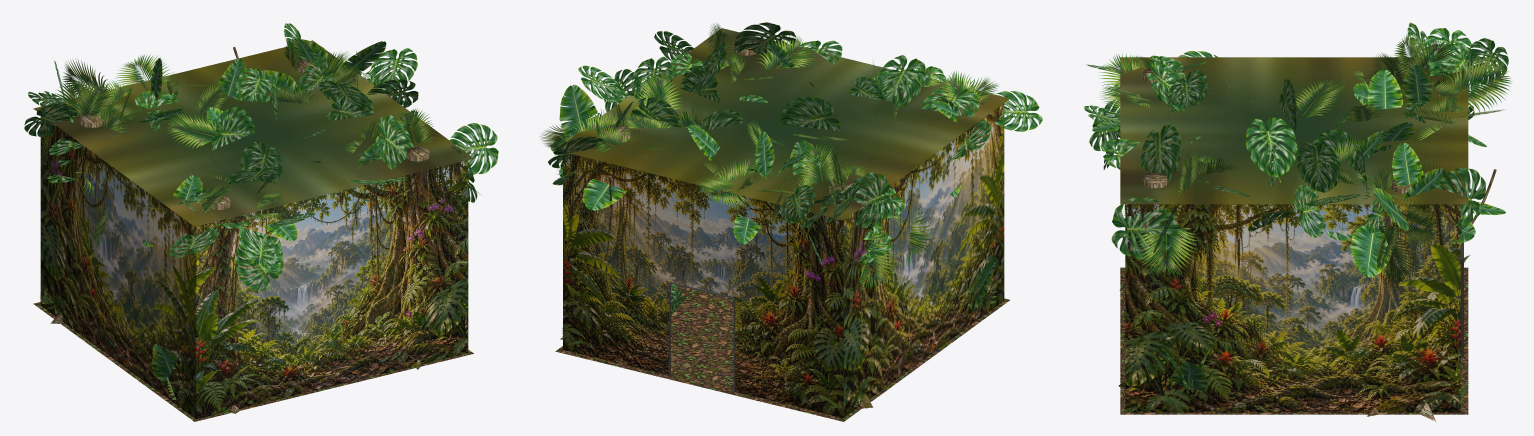
Rendered from jungle.glb.
3 views of the same model, side by side, from view 1: azimuth 30°, elevation 25°; view 2: azimuth 150°, elevation 25°; view 3: azimuth 270°, elevation 25° (orthographic). The views are drawn at different scales.
Parts seen in each view (by area): view 1: Mural.jungle.back, Mural.jungle.ceiling, Mural.jungle.right, Card.jungle.leaves-0, Card.jungle.leaves-2, Card.jungle.leaves-1, Floor, Bark.jungle; view 2: Mural.jungle.front, Mural.jungle.ceiling, Mural.jungle.right, Card.jungle.leaves-0, Card.jungle.leaves-2, Floor, Card.jungle.leaves-1, Bark.jungle, Trim; view 3: Mural.jungle.left, Mural.jungle.ceiling, Card.jungle.leaves-0, Card.jungle.leaves-2, Card.jungle.leaves-1, Floor, Bark.jungle, Card.jungle.leaves-3, Trim.
Part boxes in pixels (left/top/right/bottom): Mural.jungle.back: left=196, top=160, right=468, bottom=419; Mural.jungle.ceiling: left=33, top=40, right=473, bottom=226; Mural.jungle.right: left=40, top=116, right=196, bottom=418; Card.jungle.leaves-0: left=24, top=23, right=498, bottom=290; Card.jungle.leaves-2: left=51, top=37, right=480, bottom=357; Card.jungle.leaves-1: left=138, top=38, right=411, bottom=384; Floor: left=33, top=302, right=473, bottom=421; Bark.jungle: left=50, top=47, right=429, bottom=413; Mural.jungle.front: left=563, top=154, right=843, bottom=418; Mural.jungle.ceiling: left=563, top=28, right=1010, bottom=220; Mural.jungle.right: left=843, top=103, right=1004, bottom=417; Card.jungle.leaves-0: left=548, top=22, right=1042, bottom=315; Card.jungle.leaves-2: left=541, top=23, right=998, bottom=354; Floor: left=555, top=284, right=1009, bottom=421; Card.jungle.leaves-1: left=550, top=43, right=995, bottom=312; Bark.jungle: left=560, top=42, right=959, bottom=408; Trim: left=669, top=282, right=735, bottom=392; Mural.jungle.left: left=1125, top=204, right=1460, bottom=412; Mural.jungle.ceiling: left=1120, top=57, right=1468, bottom=204; Card.jungle.leaves-0: left=1084, top=22, right=1508, bottom=259; Card.jungle.leaves-2: left=1100, top=32, right=1511, bottom=399; Card.jungle.leaves-1: left=1092, top=61, right=1505, bottom=394; Floor: left=1120, top=267, right=1468, bottom=414; Bark.jungle: left=1118, top=62, right=1496, bottom=421; Card.jungle.leaves-3: left=1157, top=255, right=1470, bottom=407; Trim: left=1460, top=242, right=1463, bottom=357.
Size of the model in its own units: 12.06 by 7.6 by 11.49.
Materials: 13 (12 with a texture image).
